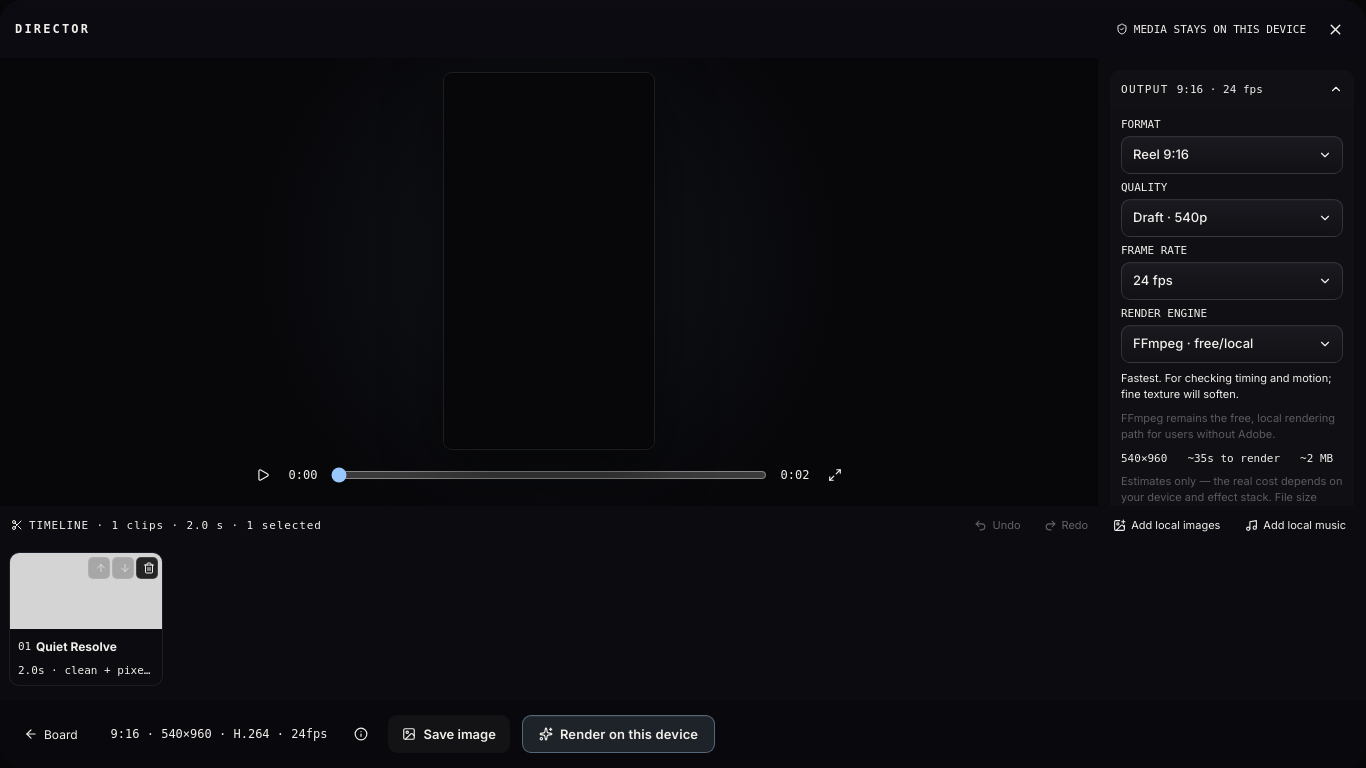
Test: Director Reel Studio render transactions › warns before a low-tier heavy render and switches to High only when asked
What coordinates should you click on to do the following:
click the button "Render on this device"
I would click on:
 (619, 734)
Its box is [522, 715, 715, 753].
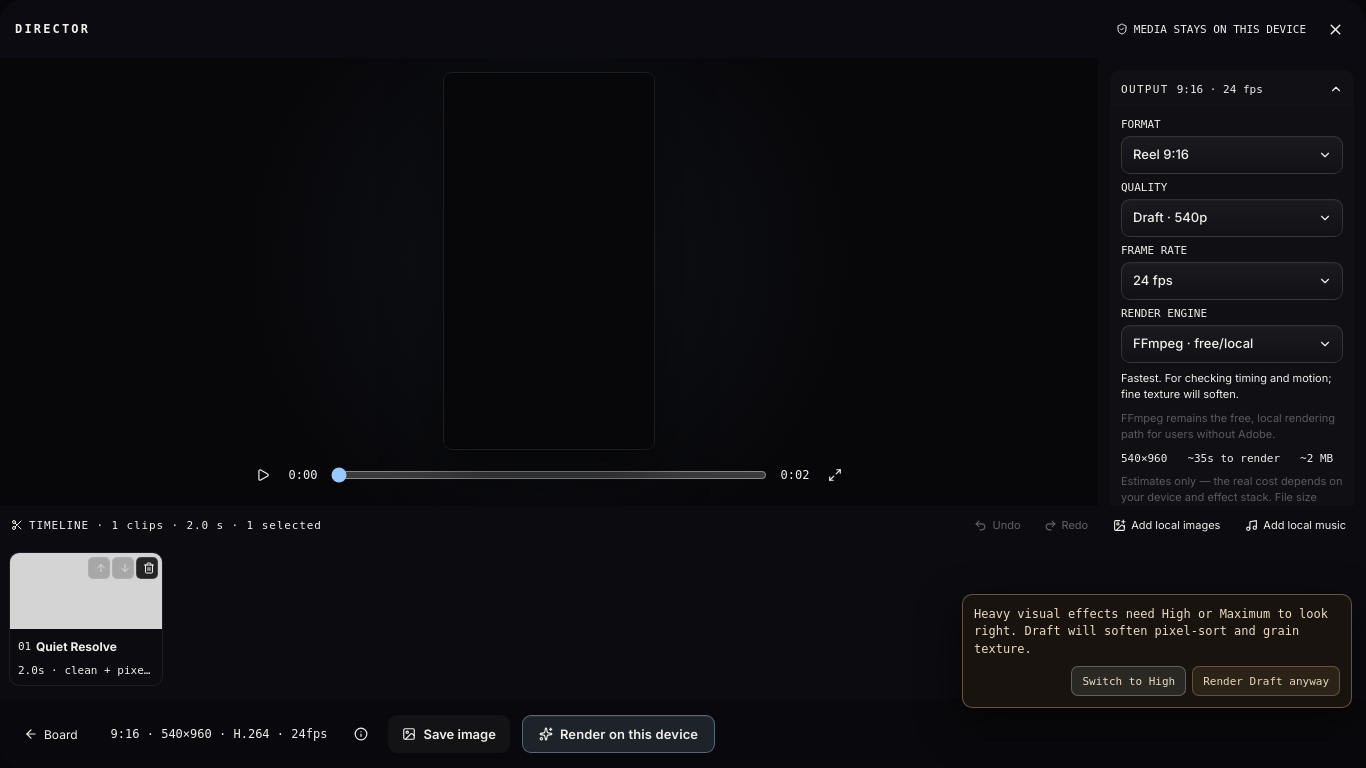
Check: the message shows "Heavy visual effects need High or Maximum to look right", box [974, 607, 1328, 638]
Check: the message shows "Draft will soften pixel-sort and grain texture", box [962, 594, 1352, 708]
What coordinates should you click on to do the following:
click the button "Switch to High"
I would click on:
 (1129, 681)
Its box is [1071, 666, 1186, 696].
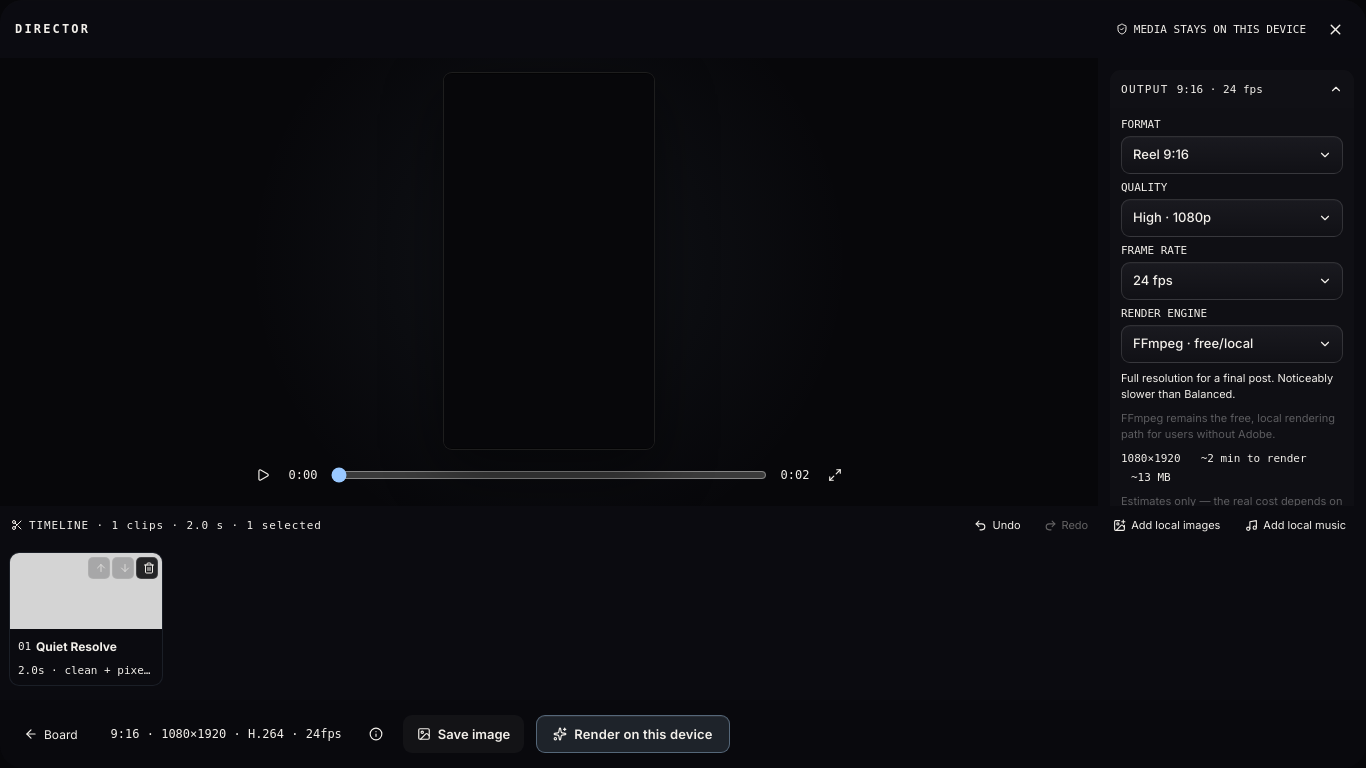
Check: the message is gone
